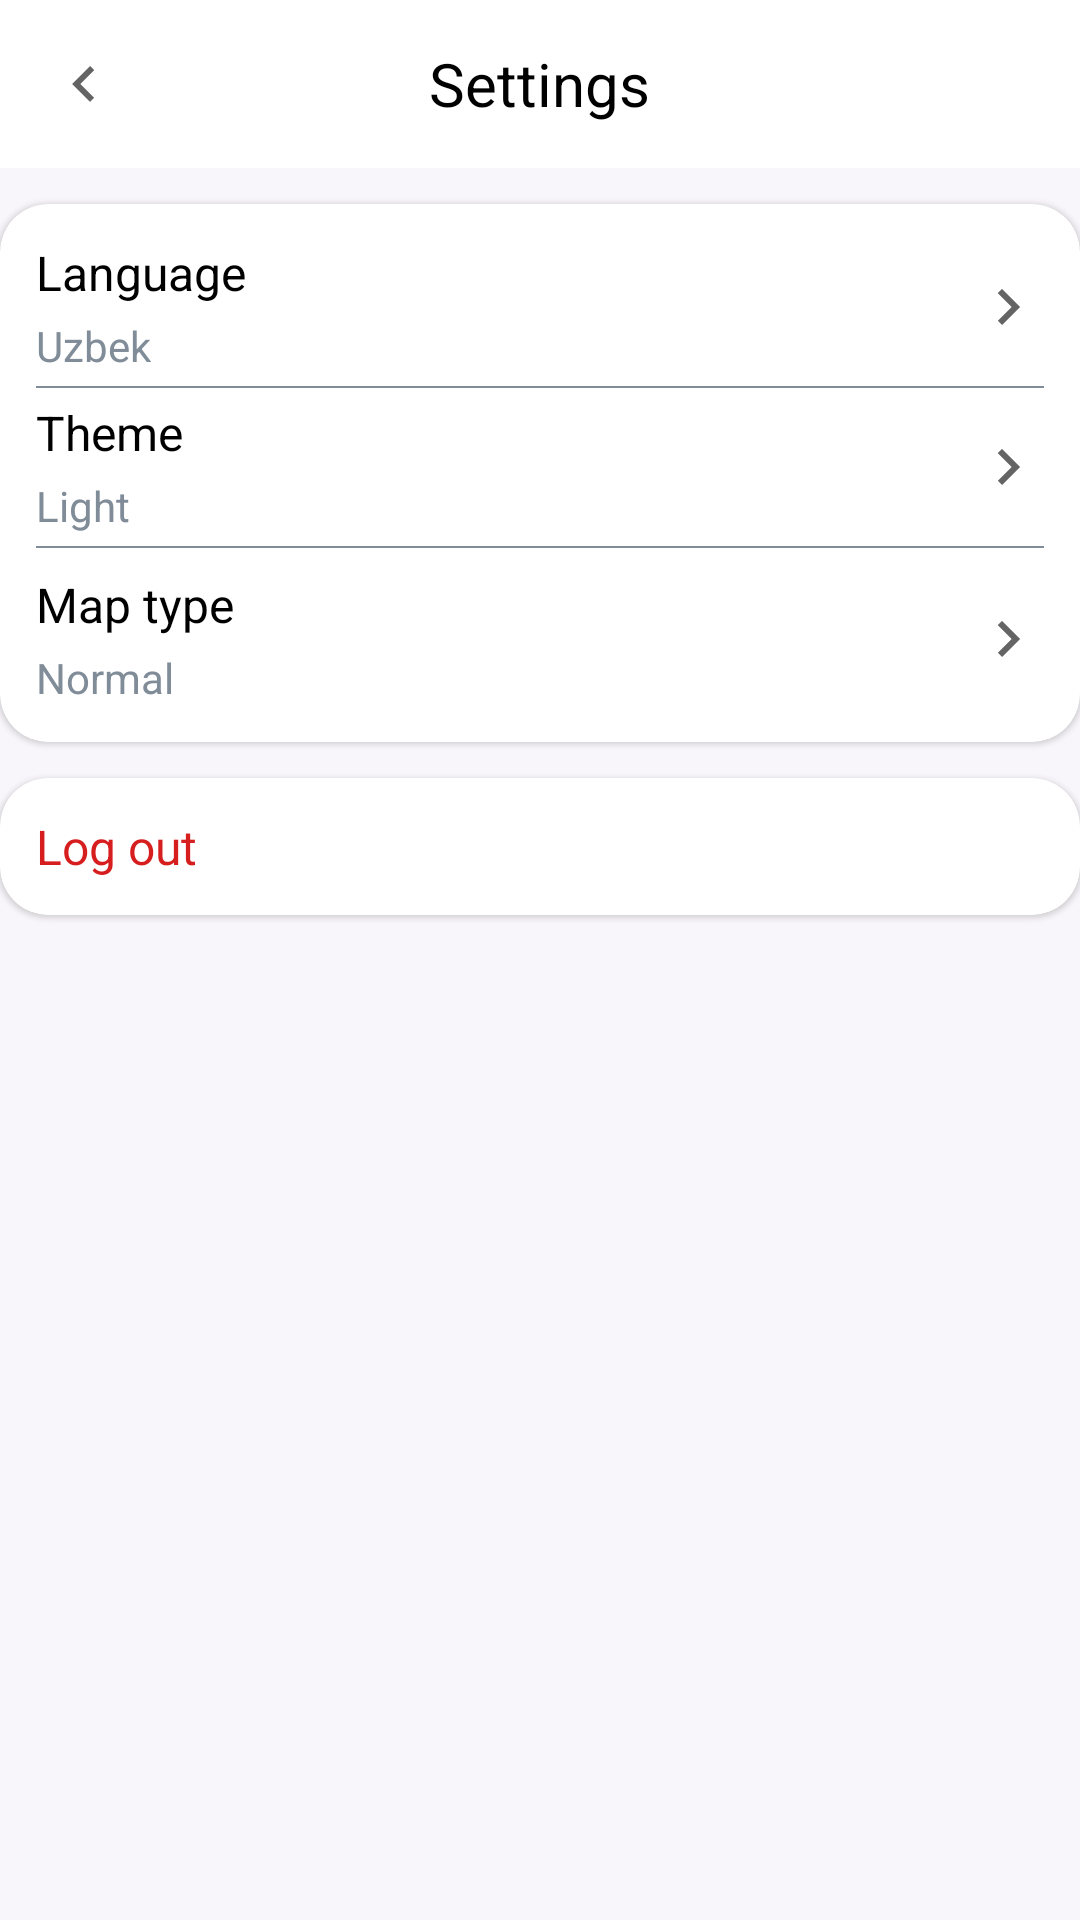

Named icons in this screenshot (1080x1920) and their centers, (x,y):
left: (83,84)
right: (1009,307), (1009,467), (1009,639)
